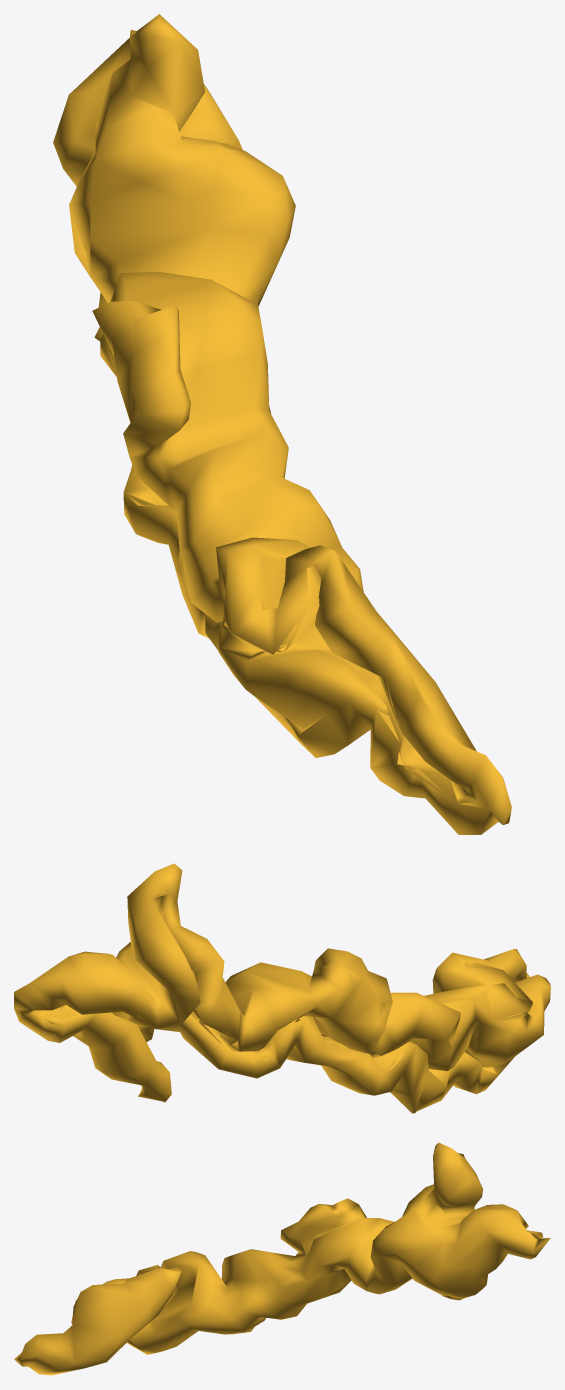
Rendered from nervoso-superior-temporal-sulcus-r.glb.
The picture shows the model from 3 angles, top to bottom: view 1: azimuth 30°, elevation 25°; view 2: azimuth 150°, elevation 25°; view 3: azimuth 270°, elevation 25°; orthographic projection. The views are drawn at different scales.
Parts seen in each view (by area): view 1: Superior temporal sulcus.r; view 2: Superior temporal sulcus.r; view 3: Superior temporal sulcus.r.
Boxes of the visible parts, x1,y1,x2,y2 form: Superior temporal sulcus.r: [53, 14, 511, 834]; Superior temporal sulcus.r: [14, 863, 550, 1113]; Superior temporal sulcus.r: [14, 1142, 550, 1375].
Size of the model in its own units: 0.0354 by 0.0515 by 0.0986.
